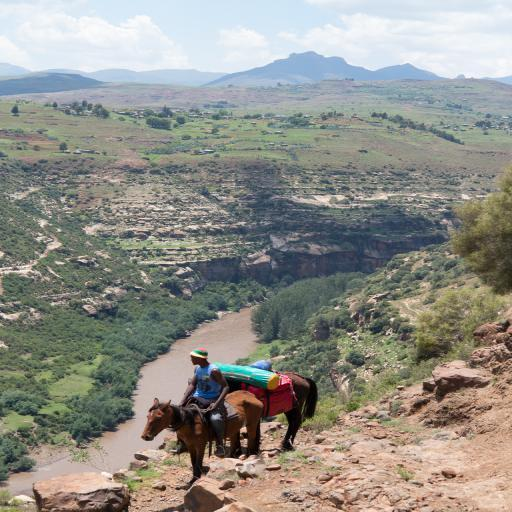horse: (139, 389, 266, 487), (188, 368, 320, 448)
